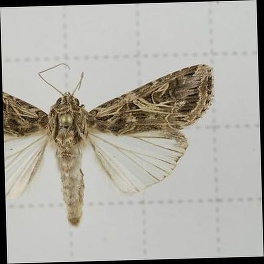Spodoptera litura: (4, 61, 217, 227)
